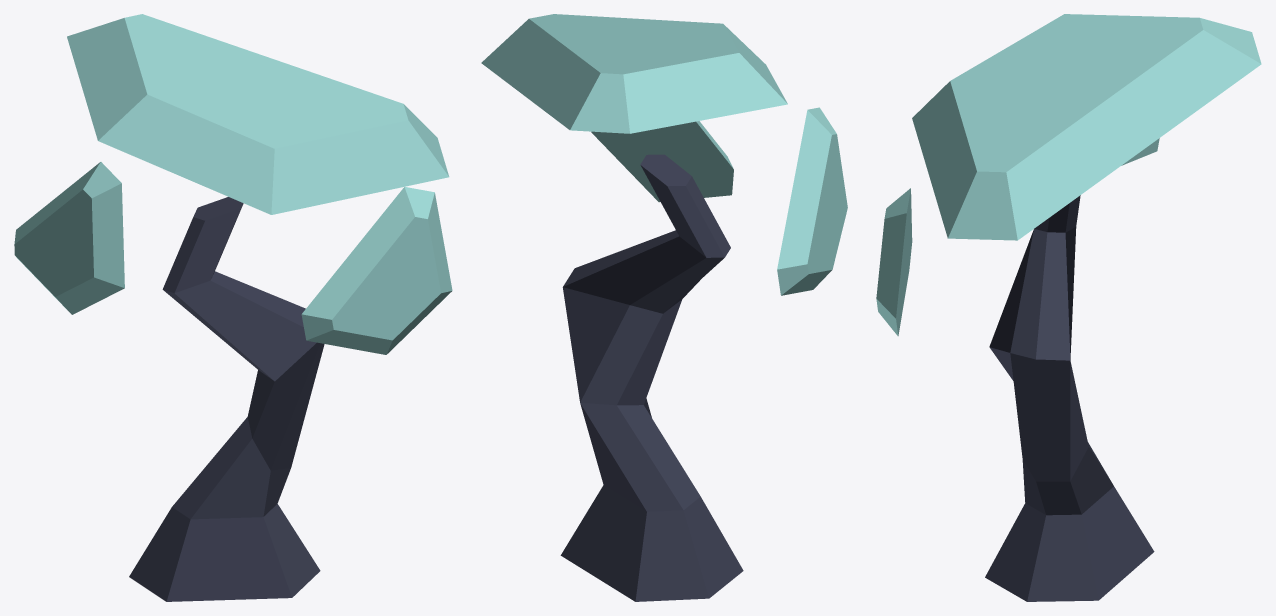
The model's file is Tree_p01.fbx.
3 views of the same model, side by side, from view 1: azimuth 30°, elevation 25°; view 2: azimuth 150°, elevation 25°; view 3: azimuth 270°, elevation 25° (orthographic). The views are drawn at different scales.
Parts seen in each view (by area): view 1: Decosol01.009; view 2: Decosol01.009; view 3: Decosol01.009.
Boxes of the visible parts, <box> form: Decosol01.009: <box>14,14,452,601</box>; Decosol01.009: <box>481,14,847,601</box>; Decosol01.009: <box>876,14,1261,601</box>.
Bounding box in the file's own units: 90.18 × 122 × 80.47.
